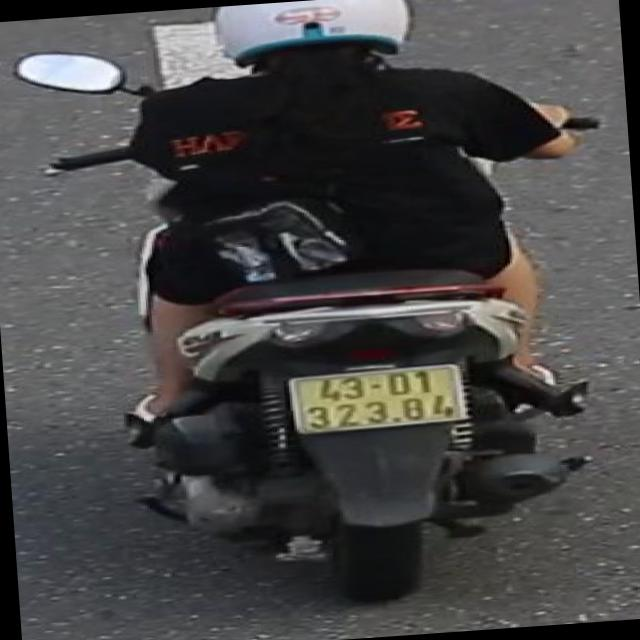LP: (280, 358, 473, 442)
helmet: (207, 0, 421, 84)
